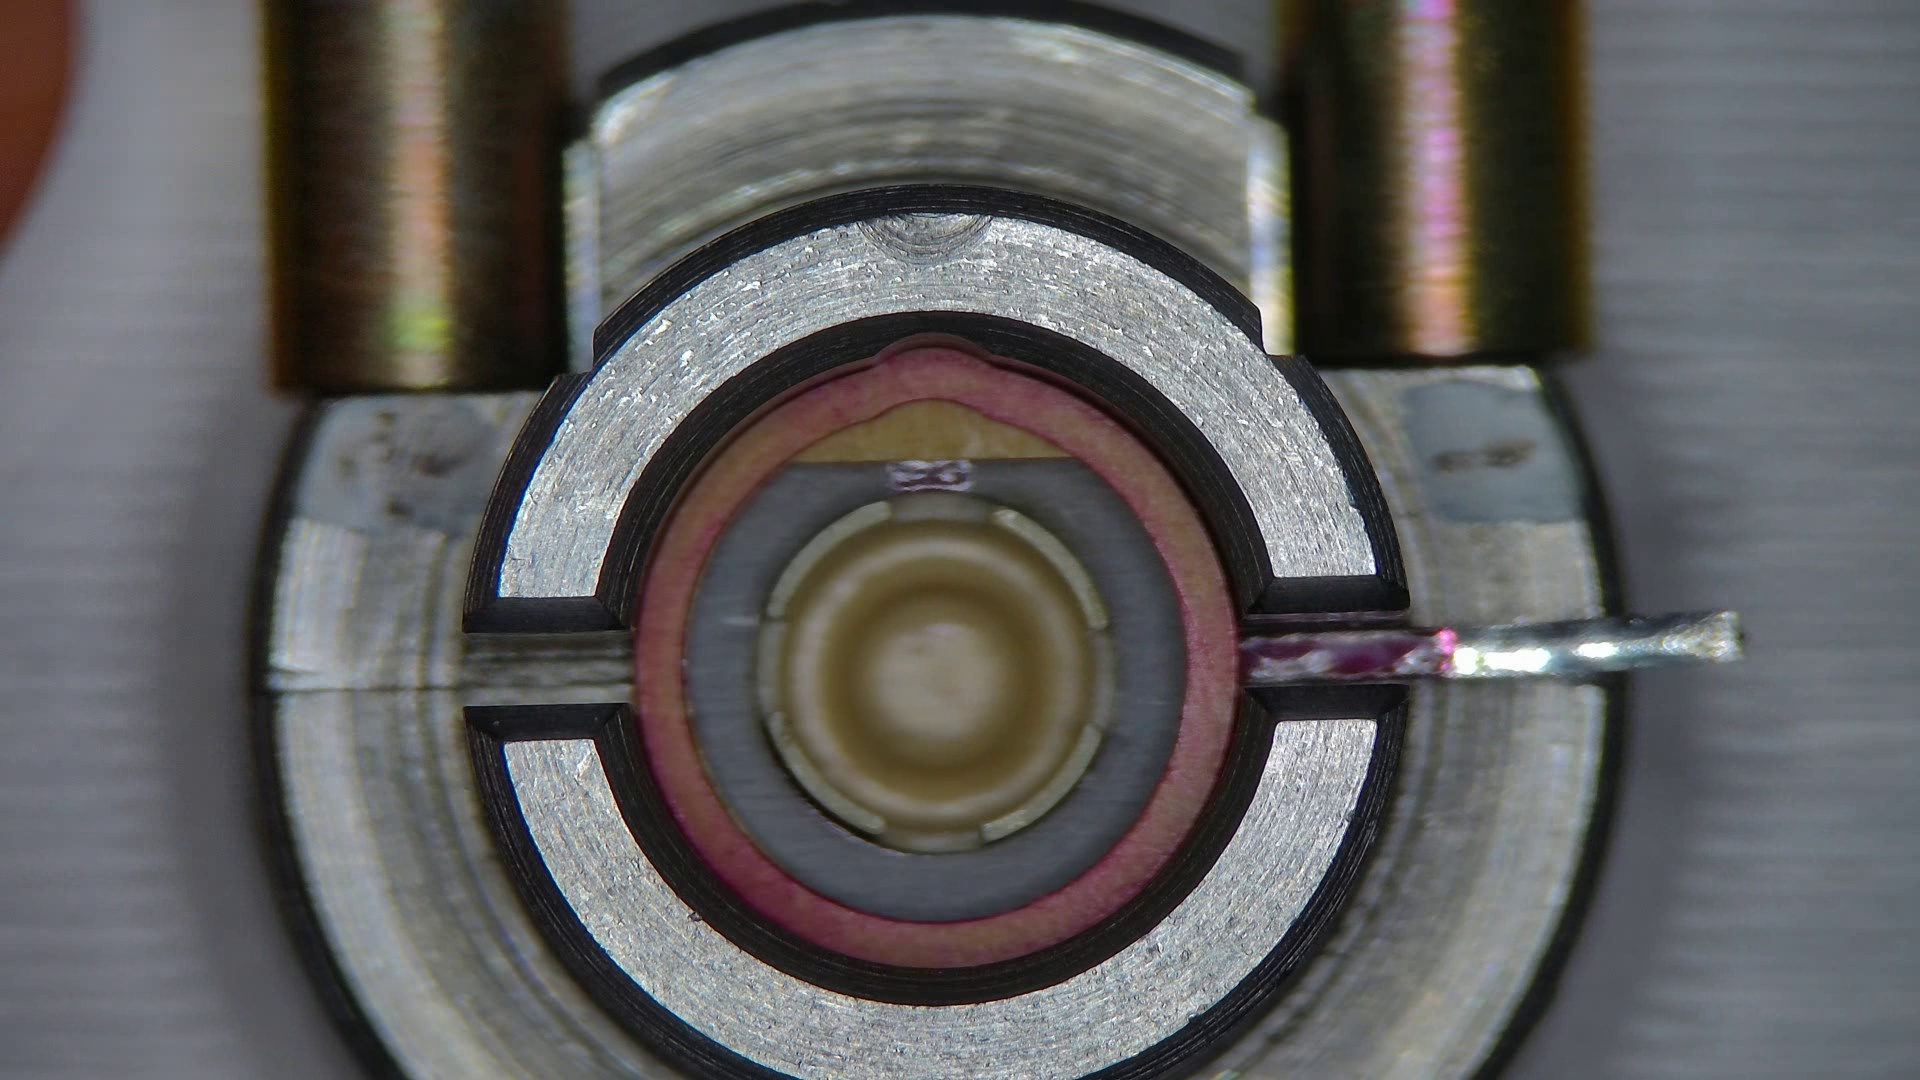GreyOring: (636, 345, 1240, 969)
YellowOring: (688, 458, 1184, 919)
redOring: (796, 404, 1067, 465)
